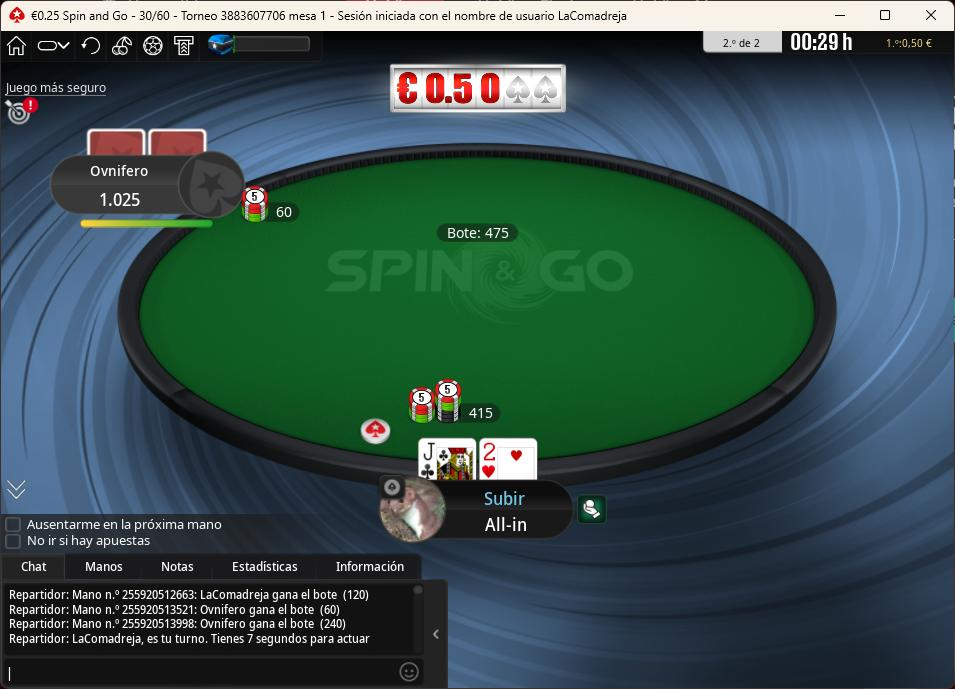Dealer: (360, 417, 392, 445)
HiddenCards: (84, 129, 212, 159)
Player: (48, 150, 246, 221)
PlayerBet: (237, 184, 304, 226)
PlayerChips: (479, 516, 538, 537), (94, 191, 151, 209)
Pot: (436, 218, 519, 247)
PrincipalBet: (405, 373, 509, 433)
PrincipalCards: (417, 435, 542, 484)
PrincipalCards1: (416, 435, 486, 483)
PrincipalCards2: (479, 436, 543, 482)
PrincipalPlayer: (373, 471, 570, 542)
SmallBigBlind: (129, 4, 181, 25)
